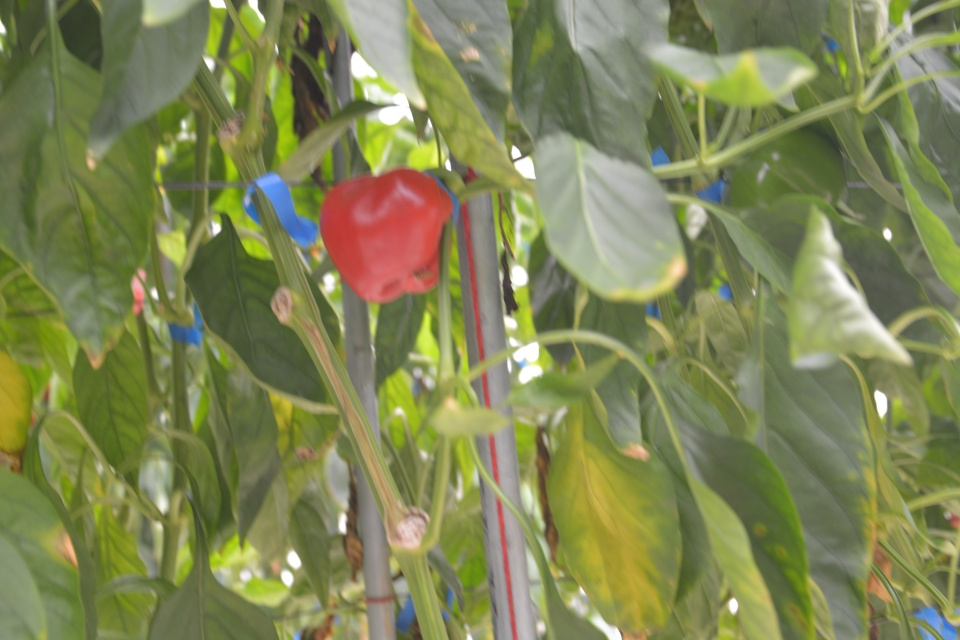fruit: (316, 162, 455, 306), (724, 127, 850, 224)
